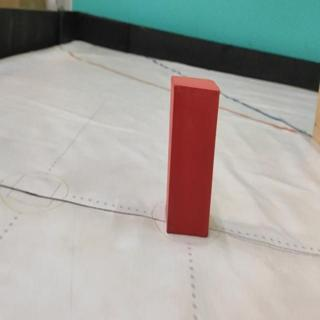redbox: (166, 73, 221, 240)
